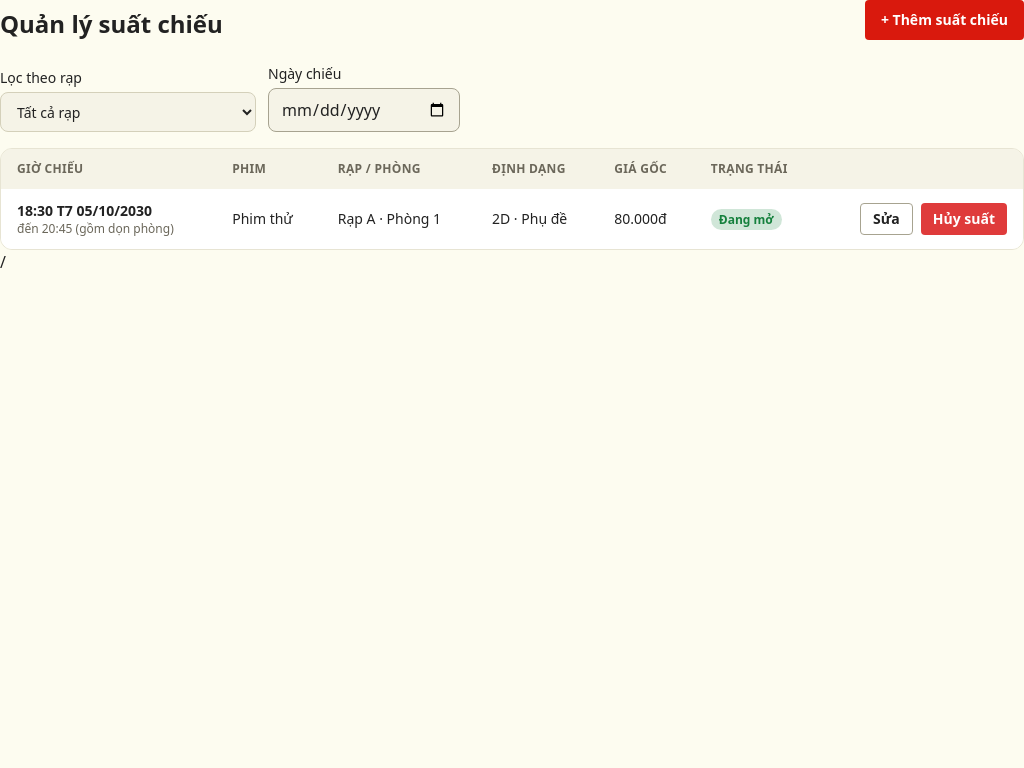
AdminShowtimesPage (A03) › trùng giờ (SHOWTIME_OVERLAP): hộp thoại vẫn mở, giữ dữ liệu và giải thích
Click the button "+ Thêm suất chiếu" at point(944, 20), box [865,0,1023,40]
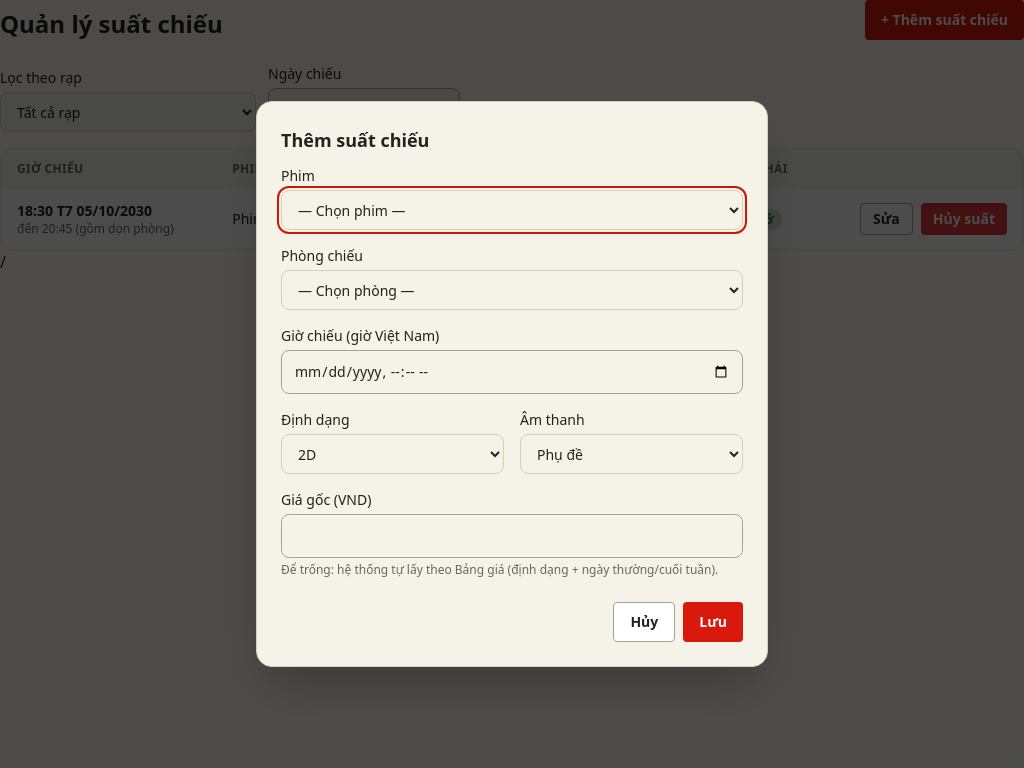
Select "Phim thử" in the dropdown labelled "Phim" at point(512, 210), box [281,190,743,230]
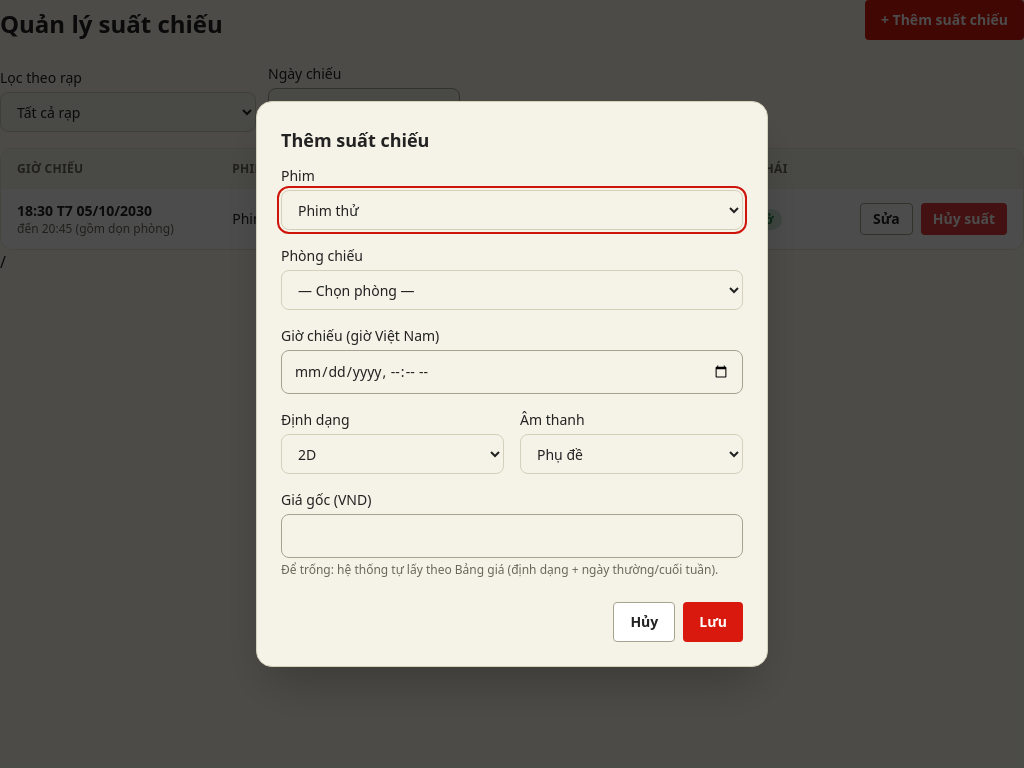
Select "Rạp A · Phòng 1" in the dropdown labelled "Phòng chiếu" at point(512, 290), box [281,270,743,310]
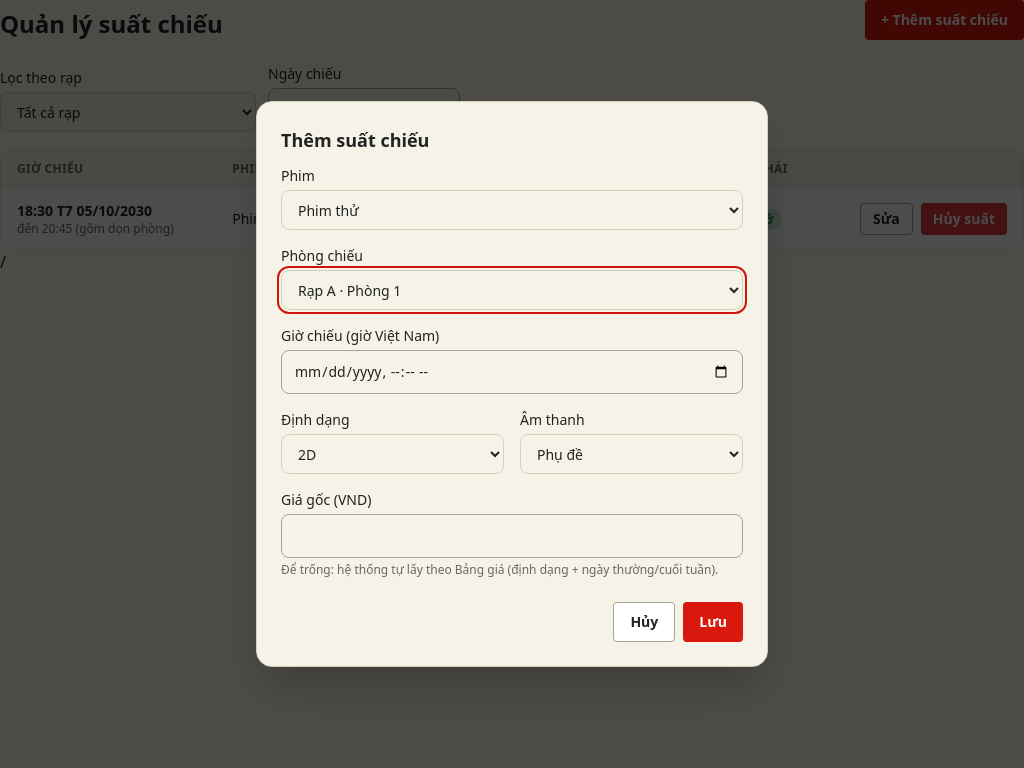
Type "2030-10-05T18:30" into the field labelled "Giờ chiếu (giờ Việt Nam)" at point(512, 372), box [281,350,743,394]
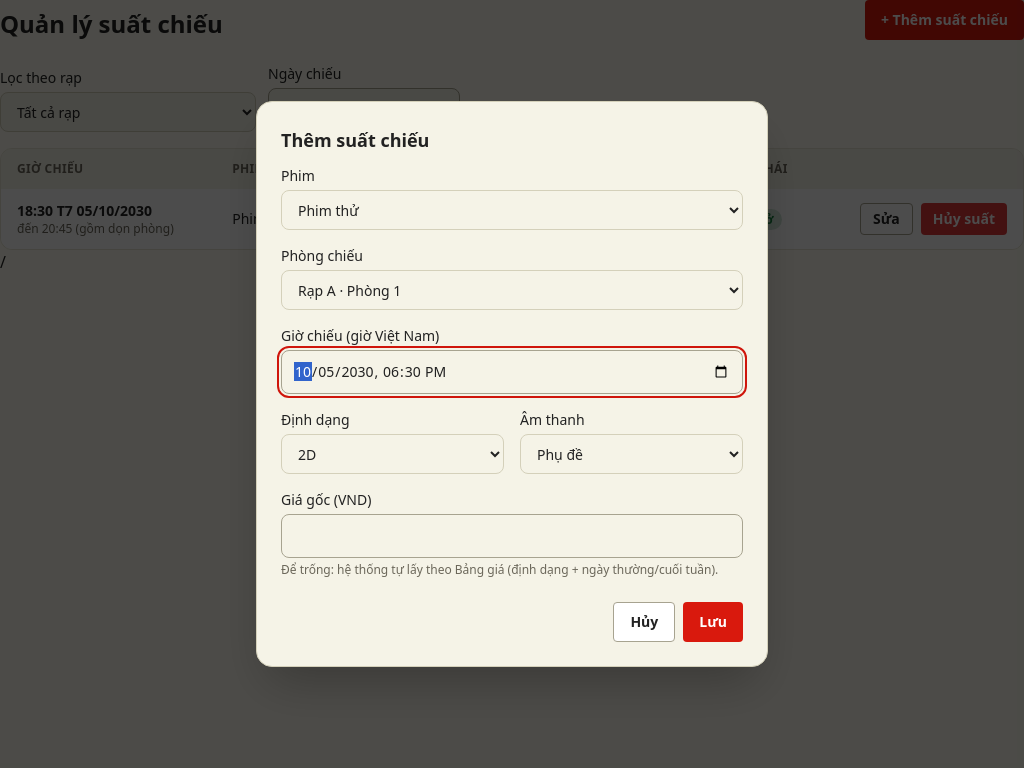
Click the button "Lưu" at point(713, 622), box [683,602,743,642]
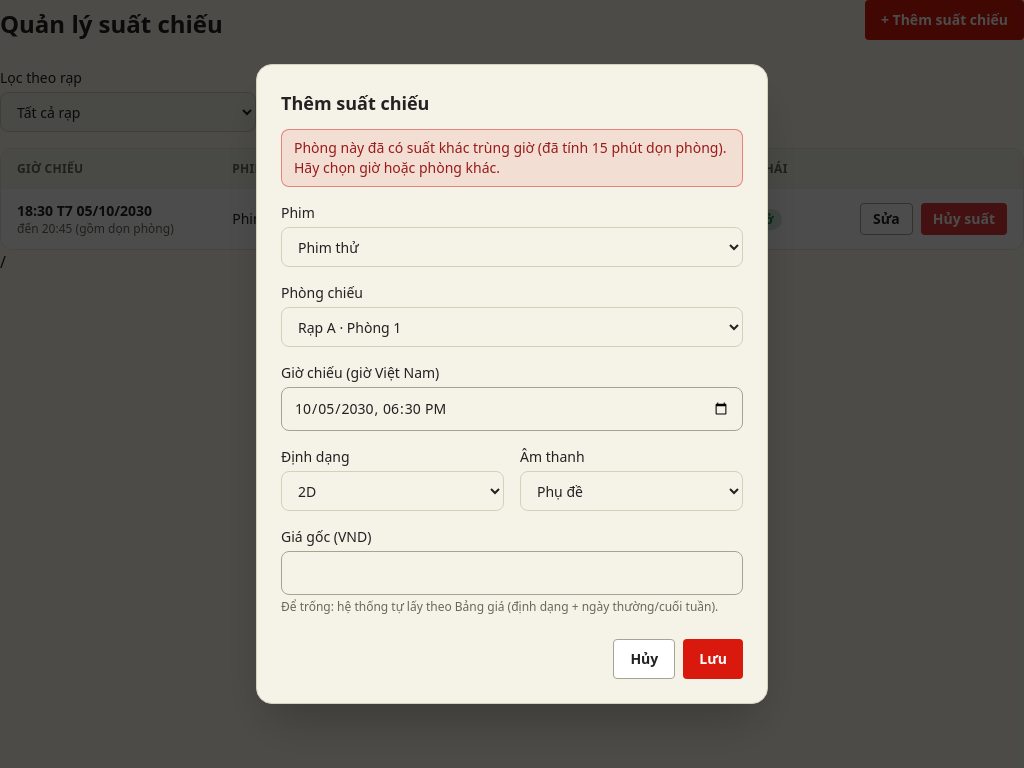
Now the text "đã có suất khác trùng giờ" is shown, box [294,138,726,177]
